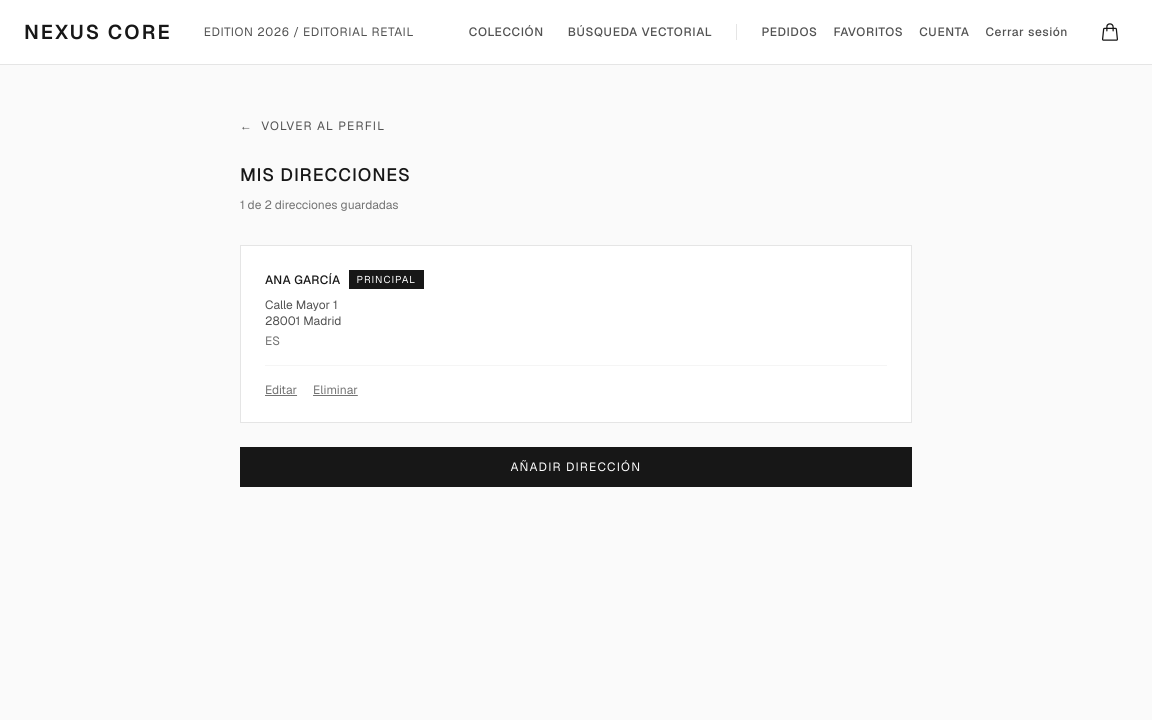
AddressesPage › debe permitir añadir cuando todavía no se alcanzó el límite
Click the button "Añadir dirección": x=576, y=467 [240,447,912,487]
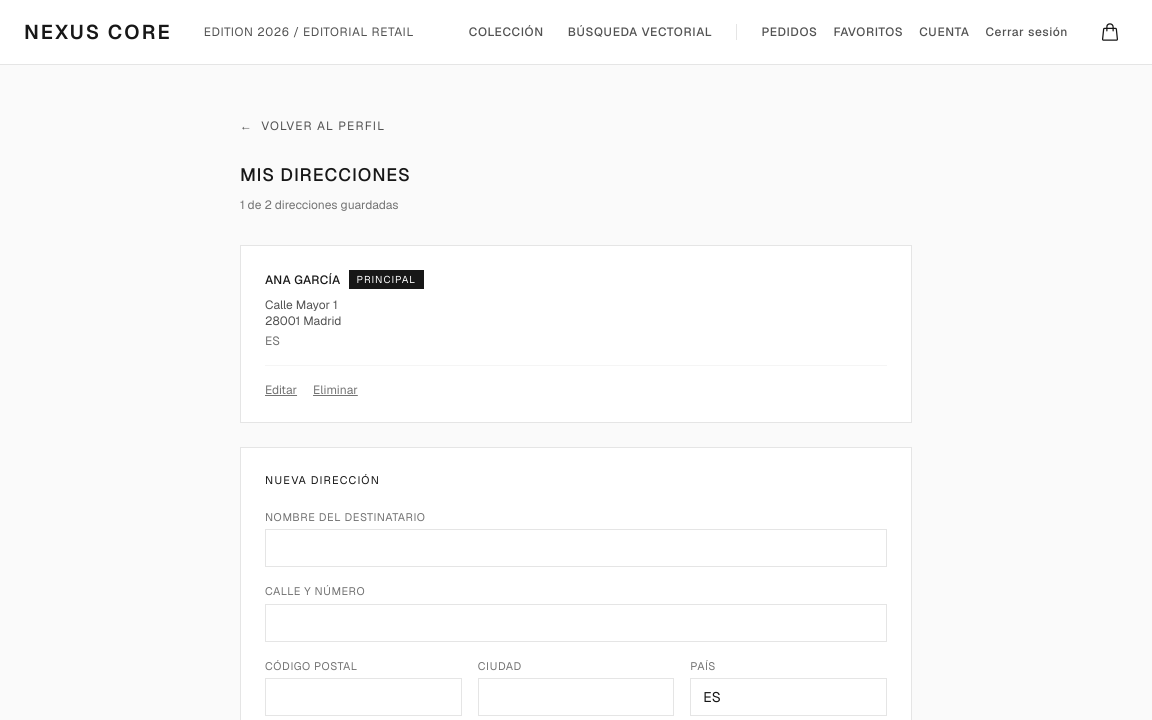
Expected: the field labelled "Calle y número" is shown, [265,604,887,642]
Expected: the heading "Nueva dirección" is shown, [265,473,380,487]
